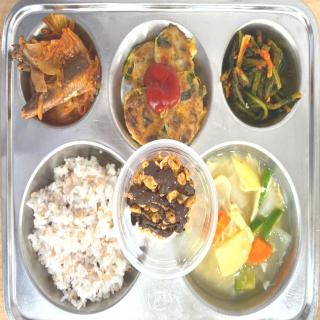Nasi: (32, 158, 117, 308)
